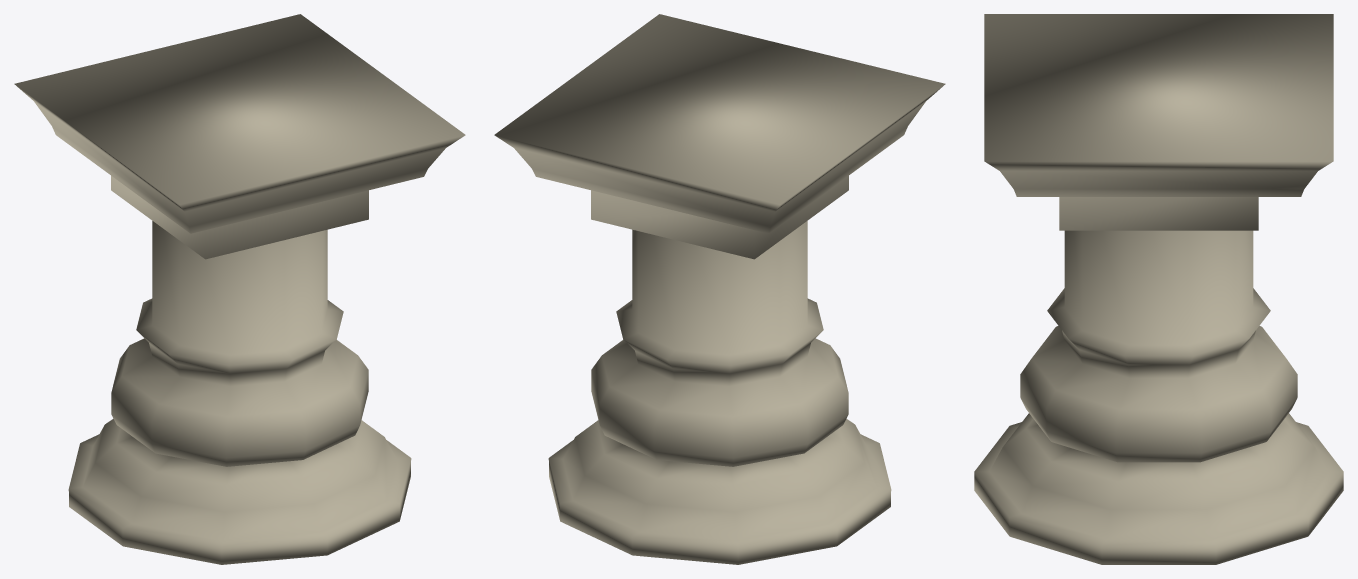
Rendered from Column_Round1.glb.
3 views of the same model, side by side, from view 1: azimuth 30°, elevation 25°; view 2: azimuth 150°, elevation 25°; view 3: azimuth 270°, elevation 25° (orthographic). The views are drawn at different scales.
Visible parts, largest first — view 1: Column_Round1; view 2: Column_Round1; view 3: Column_Round1.
Part boxes in pixels (<box>): Column_Round1: <box>14,14,465,564</box>; Column_Round1: <box>494,14,945,564</box>; Column_Round1: <box>974,14,1343,564</box>.
Bounding box in the file's own units: 1.4 × 1.77 × 1.47.
